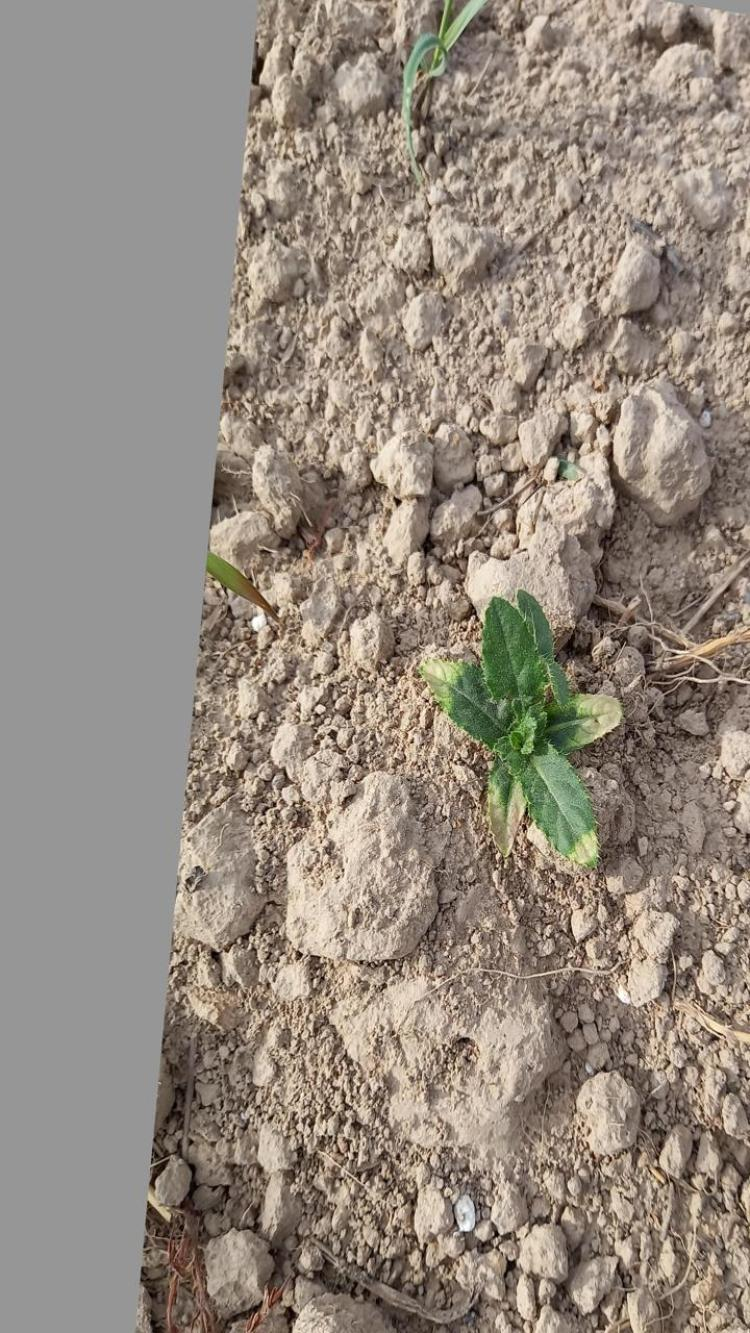bodyak: (427, 583, 627, 885)
